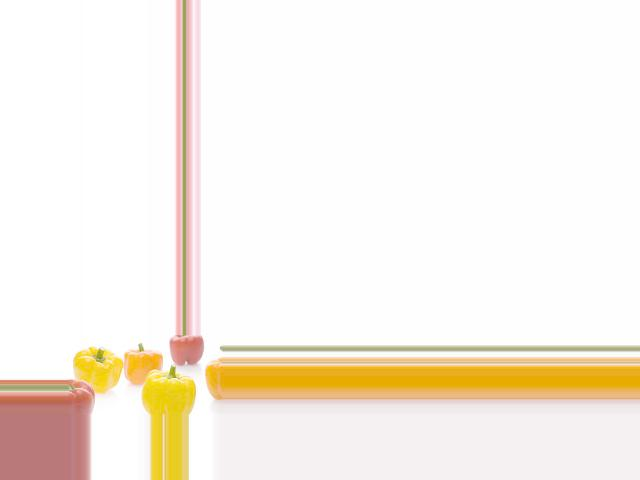bell_pepper: (202, 355, 223, 399)
